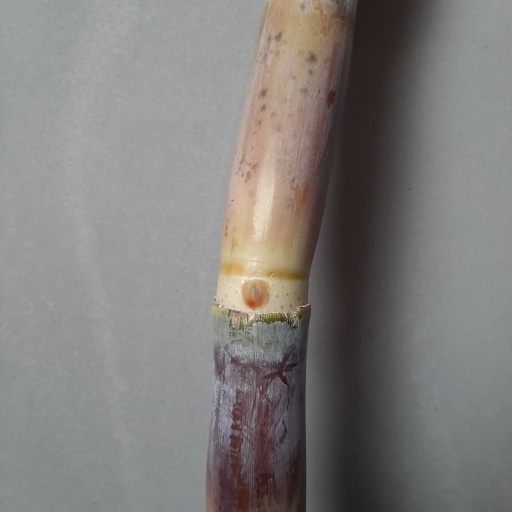Bud: (239, 279, 270, 311)
